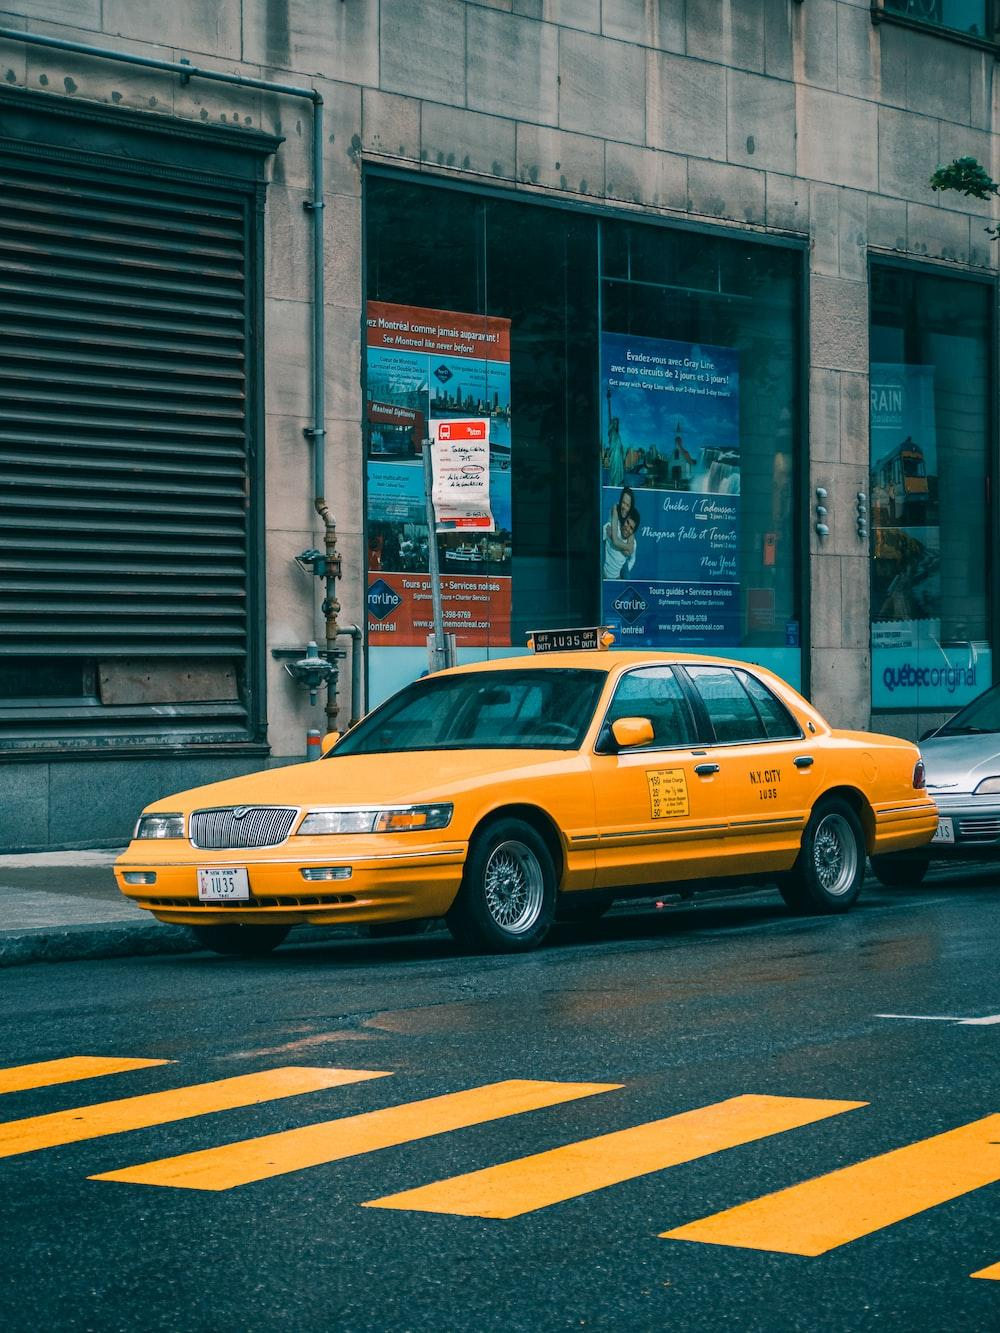taxi: (161, 571, 981, 1005)
